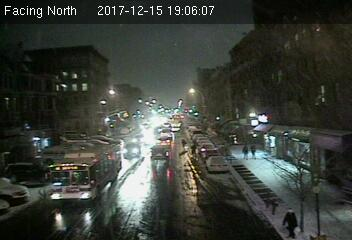bus: (50, 144, 122, 203)
car: (206, 155, 228, 171), (150, 145, 170, 160), (122, 143, 141, 157)
pedestrian: (282, 204, 302, 240)
